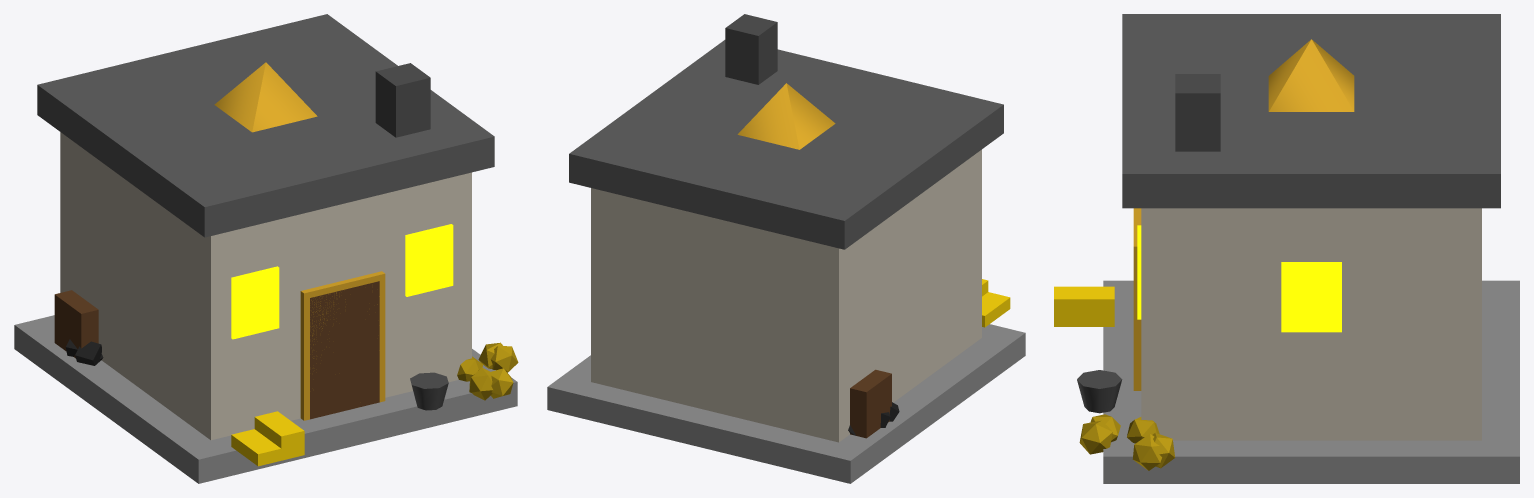
Rendered from goldsmith_mint.glb.
3 renders of one model, left to right at view 1: azimuth 30°, elevation 25°; view 2: azimuth 150°, elevation 25°; view 3: azimuth 270°, elevation 25°, orthographic. The views are drawn at different scales.
Parts seen in each view (by area): view 1: MainBuilding, RoofBase, Foundation, Door, GoldRoofAccent, Chimney, WindowLeft, WindowRight, DoorFrame, GoldBar (×2), Workbench, GoldOre (×3) (+1 smaller); view 2: MainBuilding, RoofBase, Foundation, GoldRoofAccent, Chimney, Workbench, GoldBar; view 3: MainBuilding, RoofBase, Foundation, GoldRoofAccent, WindowSide, Chimney, GoldBar (×2), GoldOre (×3), Crucible, DoorFrame.
Boxes of the visible parts, x1=… form: MainBuilding: x1=60, y1=132, x2=471, y2=440; RoofBase: x1=37, y1=14, x2=494, y2=237; Foundation: x1=14, y1=315, x2=517, y2=483; Door: x1=310, y1=281, x2=379, y2=419; GoldRoofAccent: x1=214, y1=62, x2=317, y2=132; Chimney: x1=375, y1=63, x2=430, y2=137; WindowLeft: x1=231, y1=266, x2=279, y2=339; WindowRight: x1=405, y1=224, x2=453, y2=296; DoorFrame: x1=300, y1=271, x2=385, y2=420; GoldBar (×2): x1=231, y1=411, x2=304, y2=466; Workbench: x1=54, y1=290, x2=98, y2=358; GoldOre (×3): x1=469, y1=346, x2=518, y2=400; MainBuilding: x1=591, y1=149, x2=981, y2=442; RoofBase: x1=569, y1=40, x2=1003, y2=249; Foundation: x1=547, y1=324, x2=1025, y2=483; GoldRoofAccent: x1=737, y1=83, x2=835, y2=149; Chimney: x1=725, y1=14, x2=777, y2=84; Workbench: x1=850, y1=369, x2=891, y2=438; GoldBar: x1=982, y1=292, x2=1010, y2=327; MainBuilding: x1=1141, y1=208, x2=1481, y2=440; RoofBase: x1=1122, y1=14, x2=1500, y2=208; Foundation: x1=1103, y1=280, x2=1519, y2=483; GoldRoofAccent: x1=1268, y1=39, x2=1354, y2=111; WindowSide: x1=1281, y1=262, x2=1341, y2=332; Chimney: x1=1175, y1=74, x2=1220, y2=151; GoldBar (×2): x1=1054, y1=286, x2=1114, y2=326; GoldOre (×3): x1=1079, y1=417, x2=1161, y2=470; Crucible: x1=1077, y1=370, x2=1122, y2=413; DoorFrame: x1=1133, y1=208, x2=1141, y2=390.
Bounding box in the file's own units: 5.8 × 5.25 × 6.15.
